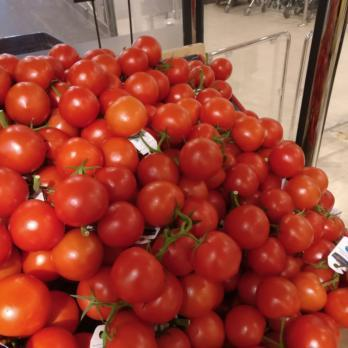Tomato: (2, 36, 230, 348), (196, 112, 288, 348), (236, 161, 348, 348)
